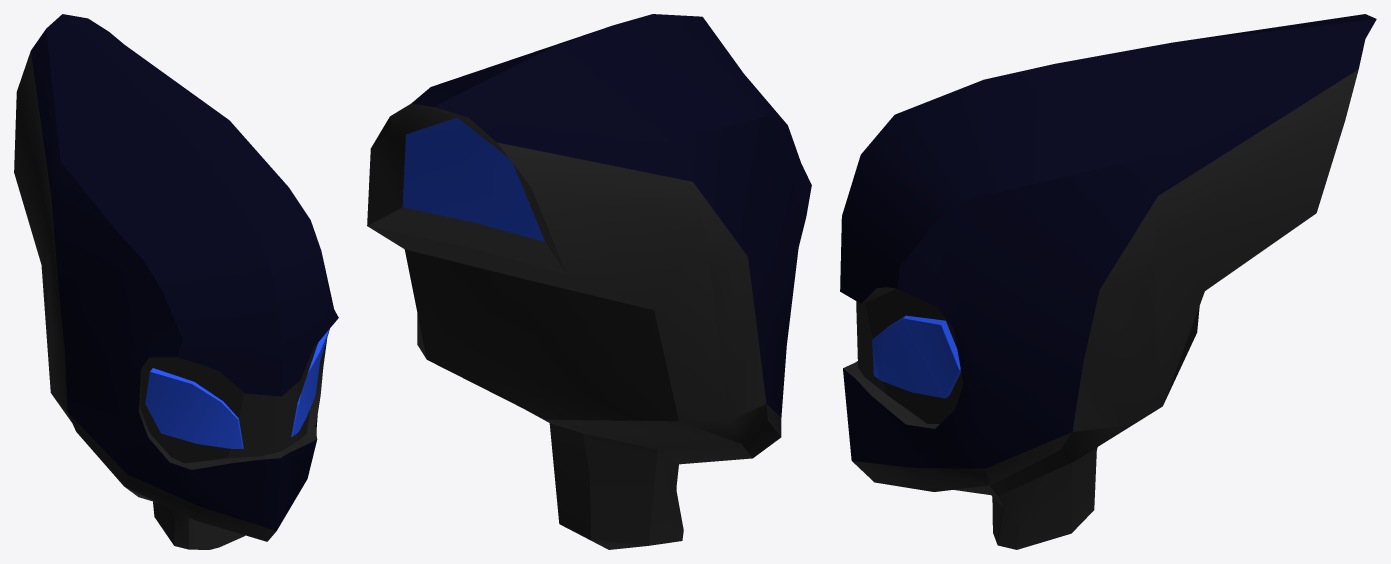
The model's file is Cabeca_3.fbx.
3 renders of one model, left to right at view 1: azimuth 30°, elevation 25°; view 2: azimuth 150°, elevation 25°; view 3: azimuth 270°, elevation 25°, orthographic. The views are drawn at different scales.
Visible parts, largest first — view 1: Cabeca_3; view 2: Cabeca_3; view 3: Cabeca_3.
Boxes of the visible parts, x1=… form: Cabeca_3: x1=14, y1=14, x2=338, y2=549; Cabeca_3: x1=367, y1=14, x2=811, y2=549; Cabeca_3: x1=840, y1=14, x2=1376, y2=549.
Size of the model in its own units: 44.54 by 76.54 by 70.9.
